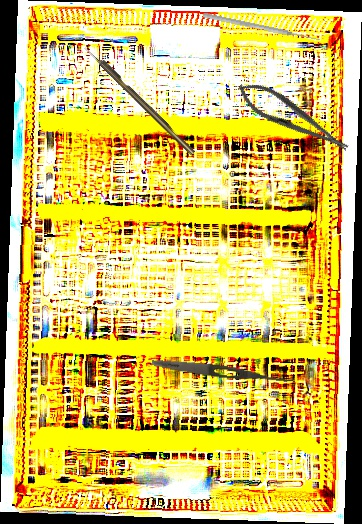Dressing Forceps: (150, 356, 297, 387)
Hook Surgical: (83, 43, 196, 157)
Needle Holder: (231, 74, 355, 162)
Pusher: (202, 11, 321, 44)
